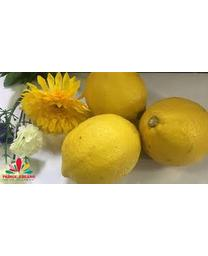lemon: (61, 113, 143, 183), (137, 98, 207, 167), (84, 73, 148, 118)
